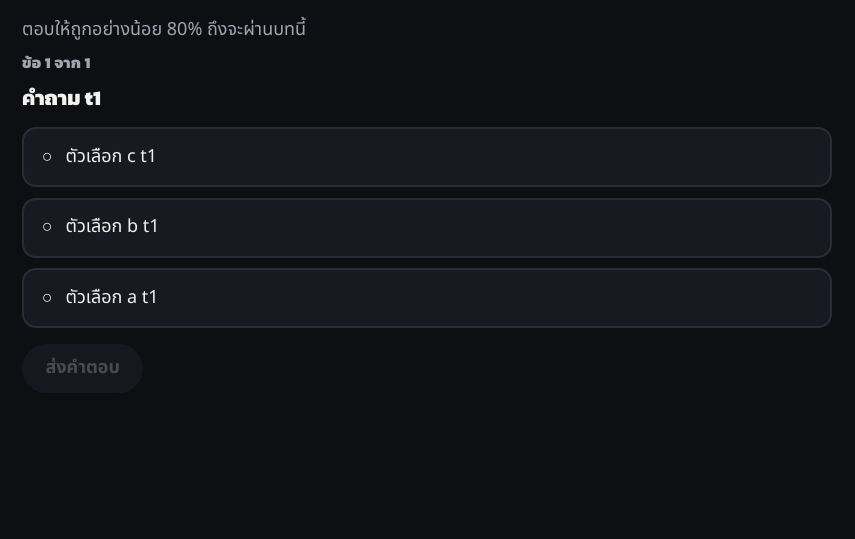
Test: QuizView › ตอบผิดแสดง explainTh
Click the button "○ ตัวเลือก b t1".
click(113, 227)  # box [22,198,832,258]
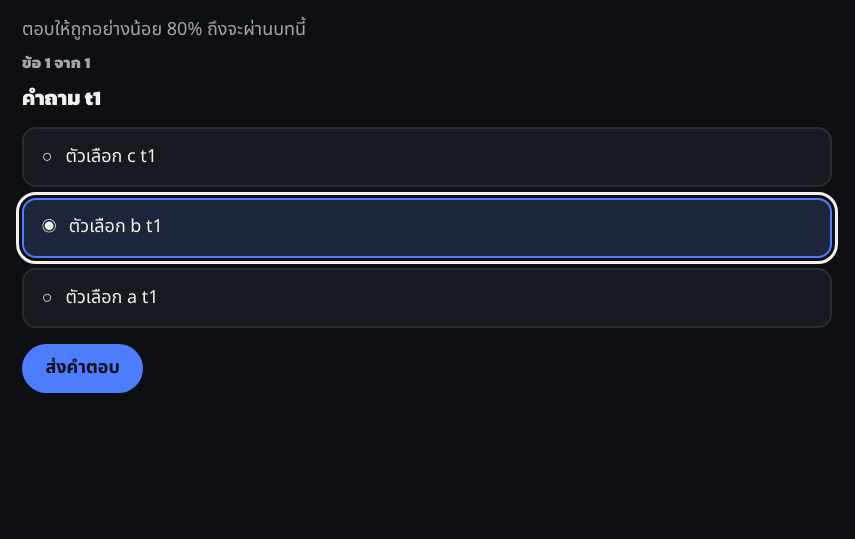
Click the button "ส่งคำตอบ".
click(83, 369)  # box [22,344,143,393]
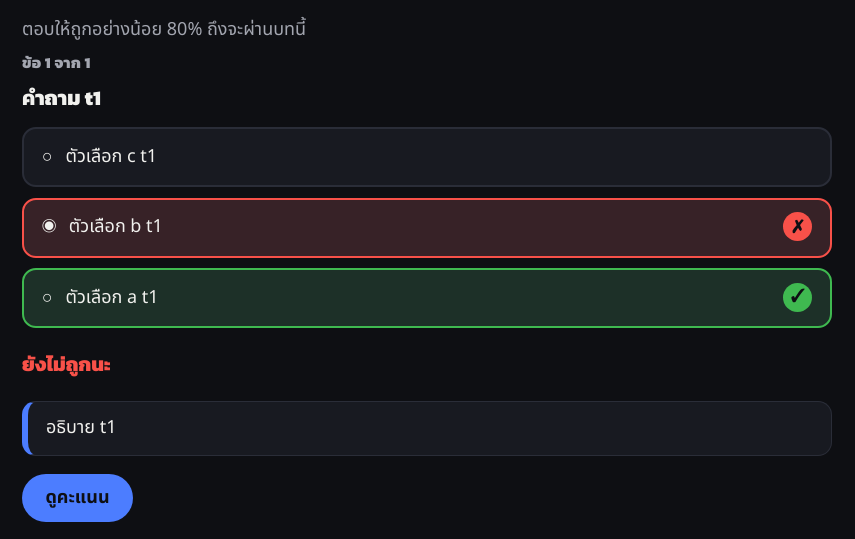
Now the text "อธิบาย t1" is shown, box [22,401,832,456]
